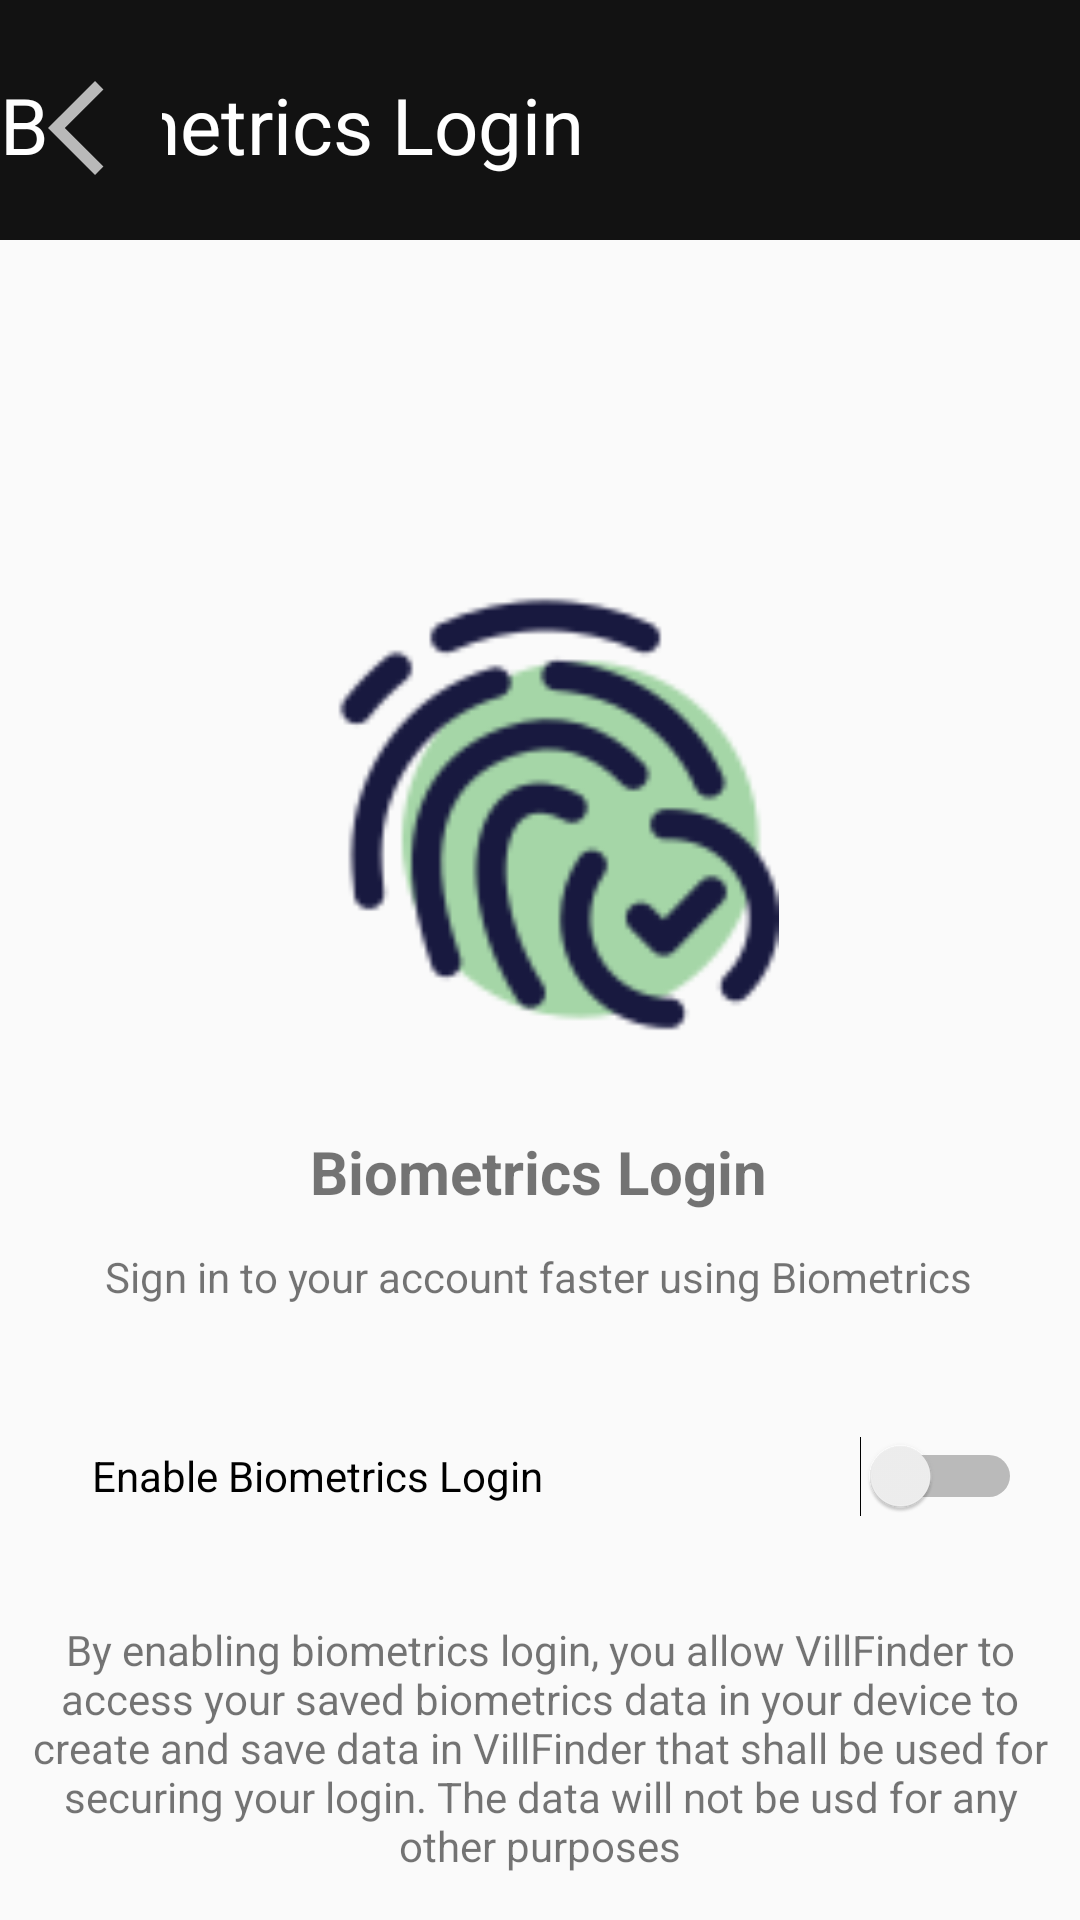

Where icons sit on this 1080px x 1920px app screen, as (x1, y1, x2, y2):
arrow back: (48, 81, 104, 175)
